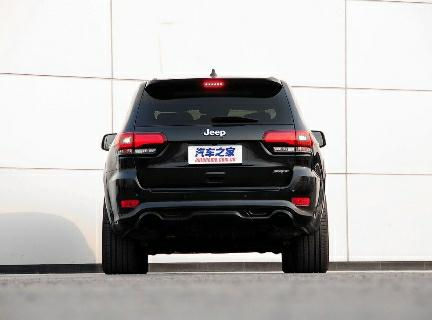car: (88, 69, 341, 280)
